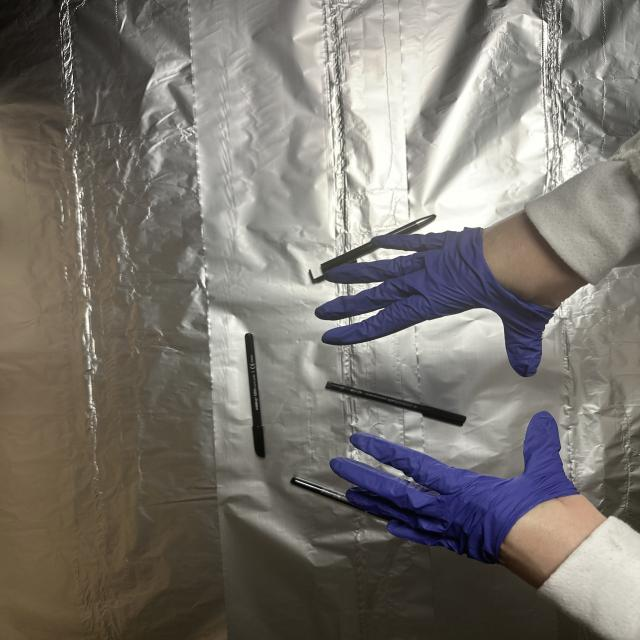glove_partial: (326, 411, 616, 591), (314, 210, 588, 380)
